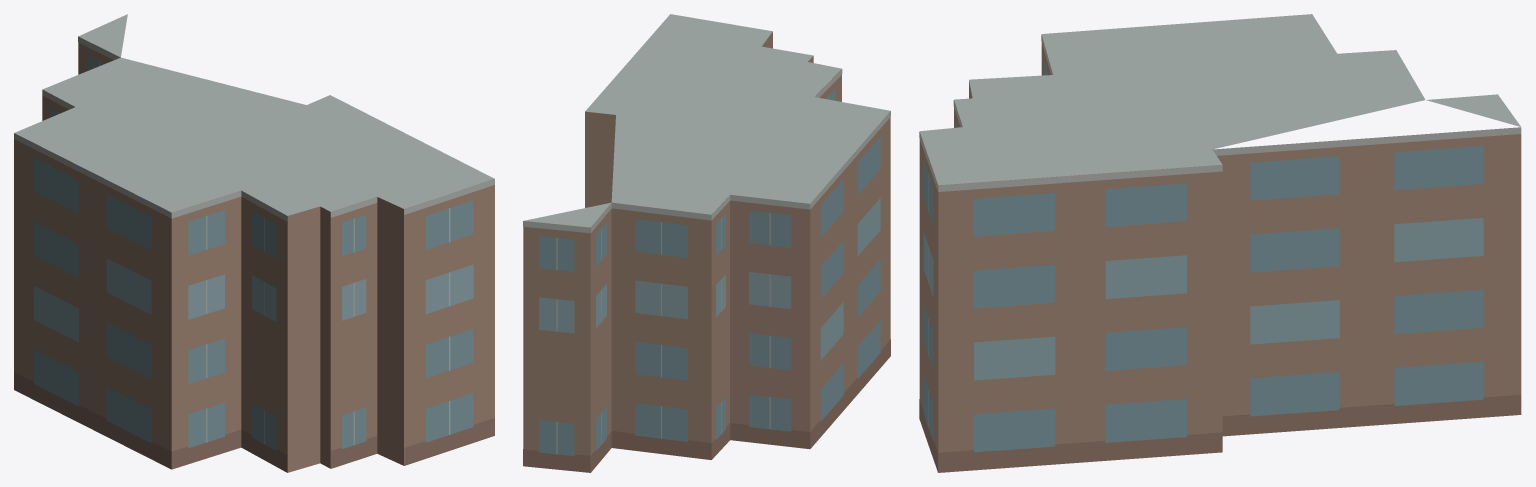
File: survey-upis-32760707.glb
3 renders of one model, left to right at view 1: azimuth 30°, elevation 25°; view 2: azimuth 150°, elevation 25°; view 3: azimuth 270°, elevation 25°, orthographic. The views are drawn at different scales.
Parts seen in each view (by area): view 1: survey-upis-32760707.tmp; view 2: survey-upis-32760707.tmp; view 3: survey-upis-32760707.tmp.
Boxes of the visible parts, x1,y1,x2,y2 form: survey-upis-32760707.tmp: (14, 14, 494, 472); survey-upis-32760707.tmp: (523, 14, 890, 472); survey-upis-32760707.tmp: (919, 14, 1521, 472).
Bounding box in the file's own units: 13.29 × 10.4 × 19.74.
